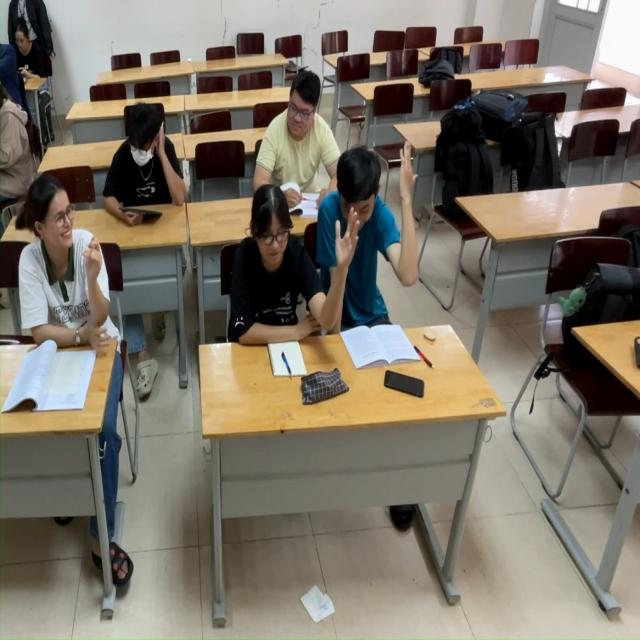raise_hand: (237, 197, 352, 382), (351, 135, 418, 383)
